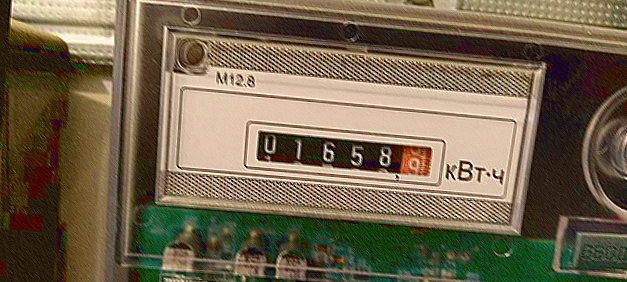0: (263, 130, 277, 153)
1: (292, 136, 304, 159)
5: (349, 141, 365, 165)
6: (320, 138, 336, 161)
8: (377, 143, 393, 166)
9: (404, 154, 420, 176)
screen: (237, 114, 453, 190)
